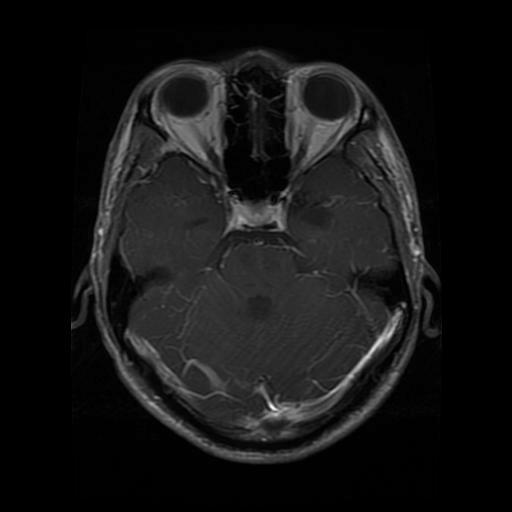Tumour-Glioma: (283, 183, 356, 243)
